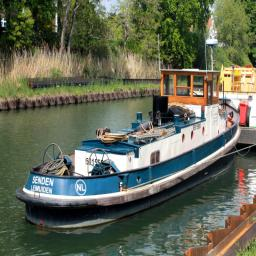tugboat: (14, 61, 243, 234)
